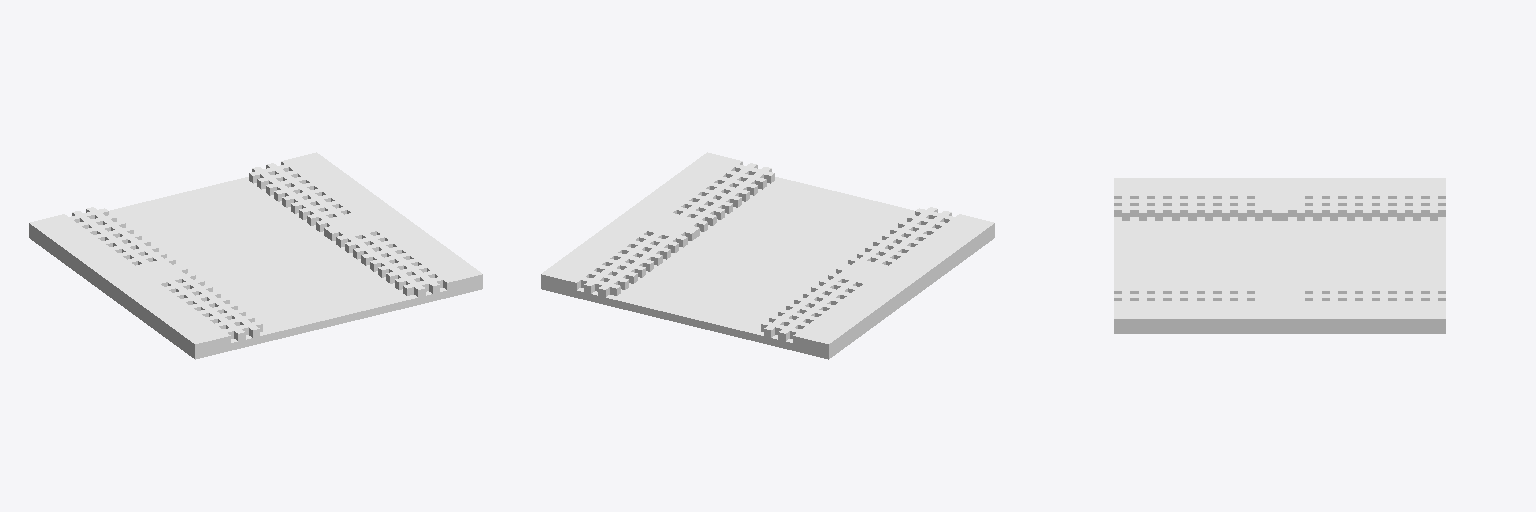
The model's file is Street_01.obj.
3 views of the same model, side by side, from view 1: azimuth 30°, elevation 25°; view 2: azimuth 150°, elevation 25°; view 3: azimuth 270°, elevation 25° (orthographic).
Visible parts, largest first — view 1: object 1; view 2: object 1; view 3: object 1.
Boxes of the visible parts, box(x1,y1,x2,y2) form: object 1: box(29, 152, 482, 359); object 1: box(541, 152, 994, 359); object 1: box(1114, 178, 1445, 333).
Bounding box in the file's own units: 4 × 0.2 × 4.